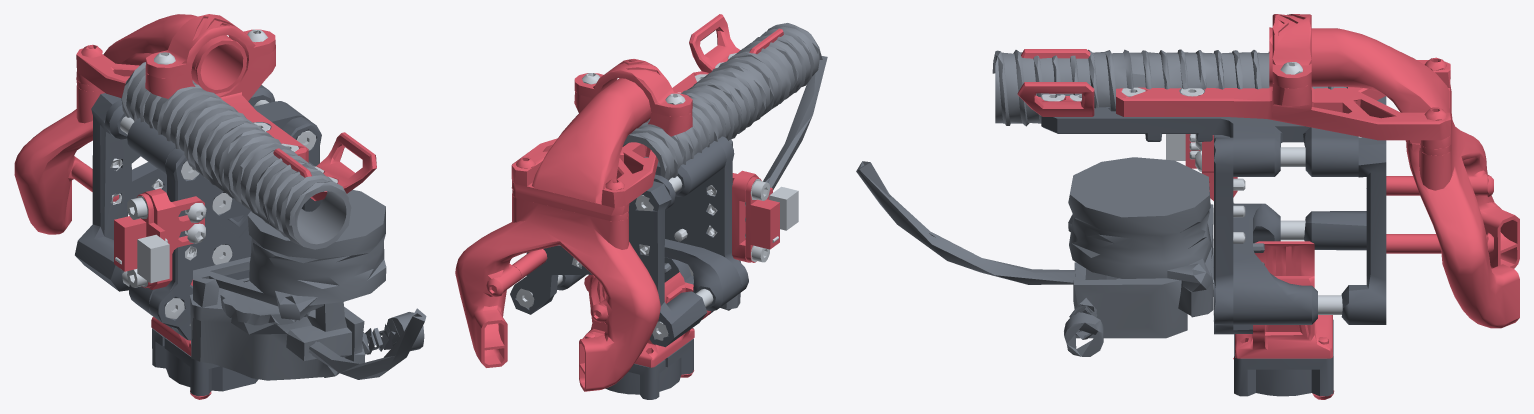
The picture shows the model from 3 angles, left to right: view 1: azimuth 30°, elevation 25°; view 2: azimuth 150°, elevation 25°; view 3: azimuth 270°, elevation 25°; orthographic projection. The views are drawn at different scales.
Visible parts, largest first — view 1: component25, cpap_tube, top_plate_mgn9h__1_, bottom_plate__1_, solid_56, cpap_duct_15mm, solid_80, cpap_clamp, back_plate__1_, body__1___1_, solid_63, top_endstop_angled__1_ (+7 smaller); view 2: solid_56, cpap_tube, cpap_duct_15mm, bottom_plate__1_, top_plate_mgn9h__1_, solid_80, front, cpap_clamp, body__1___1_, solid_86, component25, solid_63 (+8 smaller); view 3: component25, solid_56, cpap_tube, solid_80, back_plate__1_, cpap_duct_15mm, bottom_plate__1_, front, solid_86, top_plate_mgn9h__1_, body__1___1_, solid_63 (+4 smaller).
Part boxes in pixels (x1,y1,x2,y2): component25: [189, 190, 426, 380]; cpap_tube: [121, 62, 351, 249]; top_plate_mgn9h__1_: [148, 117, 321, 340]; bottom_plate__1_: [75, 93, 166, 291]; solid_56: [14, 85, 104, 234]; cpap_duct_15mm: [76, 14, 246, 93]; solid_80: [76, 48, 308, 162]; cpap_clamp: [145, 14, 275, 78]; back_plate__1_: [104, 85, 322, 211]; body__1___1_: [152, 328, 258, 396]; solid_63: [273, 132, 376, 200]; top_endstop_angled__1_: [142, 188, 204, 289]; solid_56: [455, 193, 660, 391]; cpap_tube: [622, 23, 822, 180]; cpap_duct_15mm: [511, 78, 651, 215]; bottom_plate__1_: [510, 181, 707, 347]; top_plate_mgn9h__1_: [665, 136, 748, 294]; solid_80: [511, 71, 708, 207]; front: [557, 239, 741, 311]; cpap_clamp: [574, 59, 692, 117]; body__1___1_: [605, 338, 693, 399]; solid_86: [582, 272, 711, 367]; component25: [720, 56, 827, 310]; solid_63: [689, 14, 783, 72]; component25: [856, 157, 1213, 356]; solid_56: [1406, 114, 1519, 328]; cpap_tube: [992, 49, 1347, 126]; solid_80: [1116, 60, 1450, 140]; back_plate__1_: [1041, 107, 1358, 176]; cpap_duct_15mm: [1269, 27, 1451, 149]; bottom_plate__1_: [1304, 96, 1386, 324]; front: [1233, 203, 1317, 324]; solid_86: [1235, 241, 1332, 358]; top_plate_mgn9h__1_: [1214, 135, 1233, 334]; body__1___1_: [1234, 319, 1333, 396]; solid_63: [1017, 49, 1094, 116].
Bounding box in the file's own units: 0.0716 × 0.1023 × 0.1694.
